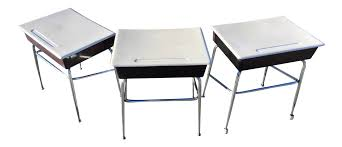desk: (203, 15, 324, 133), (18, 8, 114, 121), (116, 29, 210, 134)
